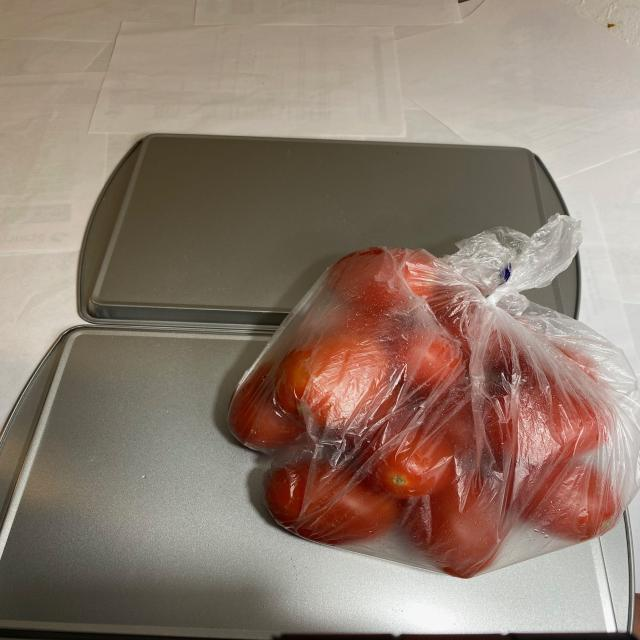tomato: (226, 247, 631, 576)
